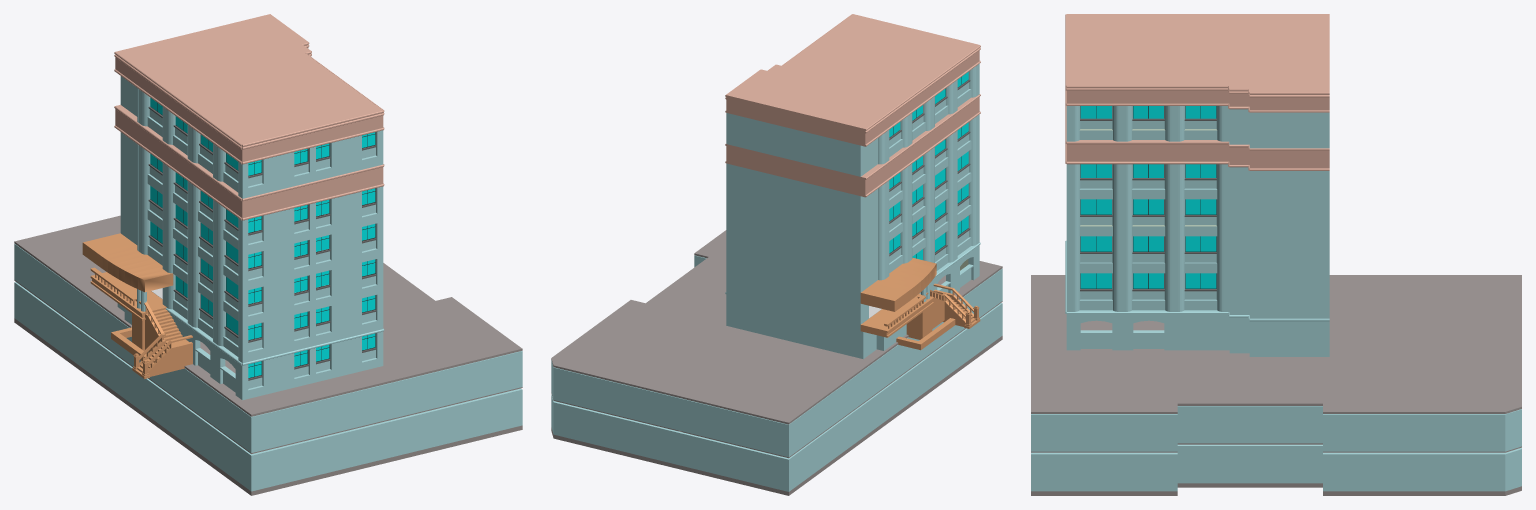
The picture shows the model from 3 angles, left to right: view 1: azimuth 30°, elevation 25°; view 2: azimuth 150°, elevation 25°; view 3: azimuth 270°, elevation 25°; orthographic projection. The views are drawn at different scales.
Visible parts, largest first — view 1: 2F, TOP, B2F, B1F, 6F, 3F, 4F, 5F; view 2: 2F, TOP, B2F, B1F, 6F, 3F, 4F, 5F; view 3: 2F, TOP, B2F, B1F, 6F, 4F, 3F, 5F.
Part boxes in pixels (left/top/right/bottom): 2F: left=14, top=215, right=522, bottom=416; TOP: left=114, top=14, right=384, bottom=164; B2F: left=14, top=282, right=522, bottom=495; B1F: left=14, top=244, right=522, bottom=453; 6F: left=114, top=76, right=384, bottom=220; 3F: left=120, top=198, right=383, bottom=327; 4F: left=120, top=162, right=383, bottom=291; 5F: left=120, top=132, right=383, bottom=255; 2F: left=551, top=210, right=1002, bottom=424; TOP: left=725, top=14, right=980, bottom=146; B2F: left=551, top=303, right=1002, bottom=495; B1F: left=551, top=255, right=1002, bottom=458; 6F: left=725, top=64, right=980, bottom=197; 3F: left=726, top=178, right=979, bottom=292; 4F: left=726, top=146, right=979, bottom=260; 5F: left=726, top=114, right=979, bottom=228; 2F: left=1031, top=240, right=1521, bottom=413; TOP: left=1065, top=14, right=1329, bottom=112; B2F: left=1031, top=444, right=1521, bottom=495; B1F: left=1031, top=406, right=1521, bottom=452; 6F: left=1065, top=105, right=1329, bottom=170; 4F: left=1066, top=199, right=1329, bottom=244; 3F: left=1066, top=236, right=1329, bottom=281; 5F: left=1066, top=164, right=1329, bottom=207.
Bounding box in the file's own units: 237 × 244 × 312.
